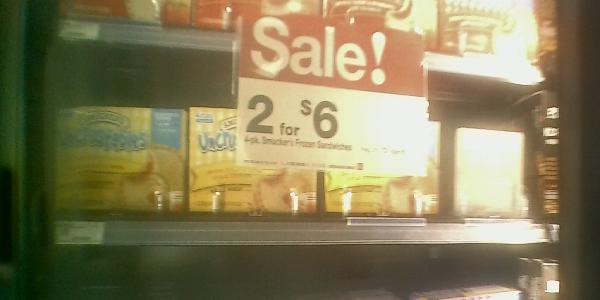icecream: (45, 99, 187, 219), (187, 101, 321, 219), (326, 106, 451, 220), (453, 115, 543, 225)
